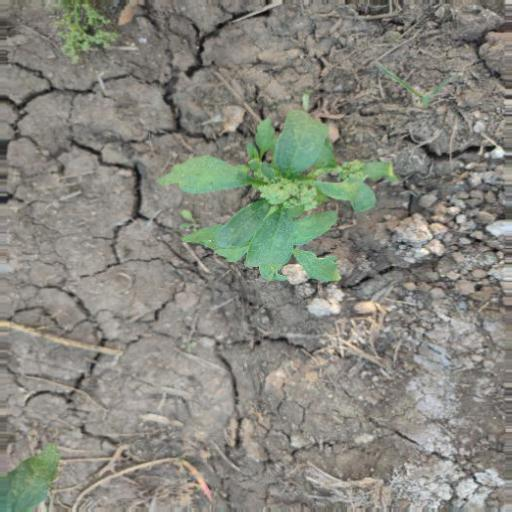weed: (182, 108, 377, 283)
